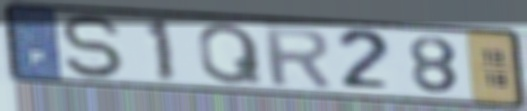1: (141, 16, 180, 84)
2: (332, 27, 401, 98)
8: (408, 34, 462, 96)
Q: (195, 22, 266, 87)
R: (258, 24, 335, 90)
S: (56, 12, 130, 81)
